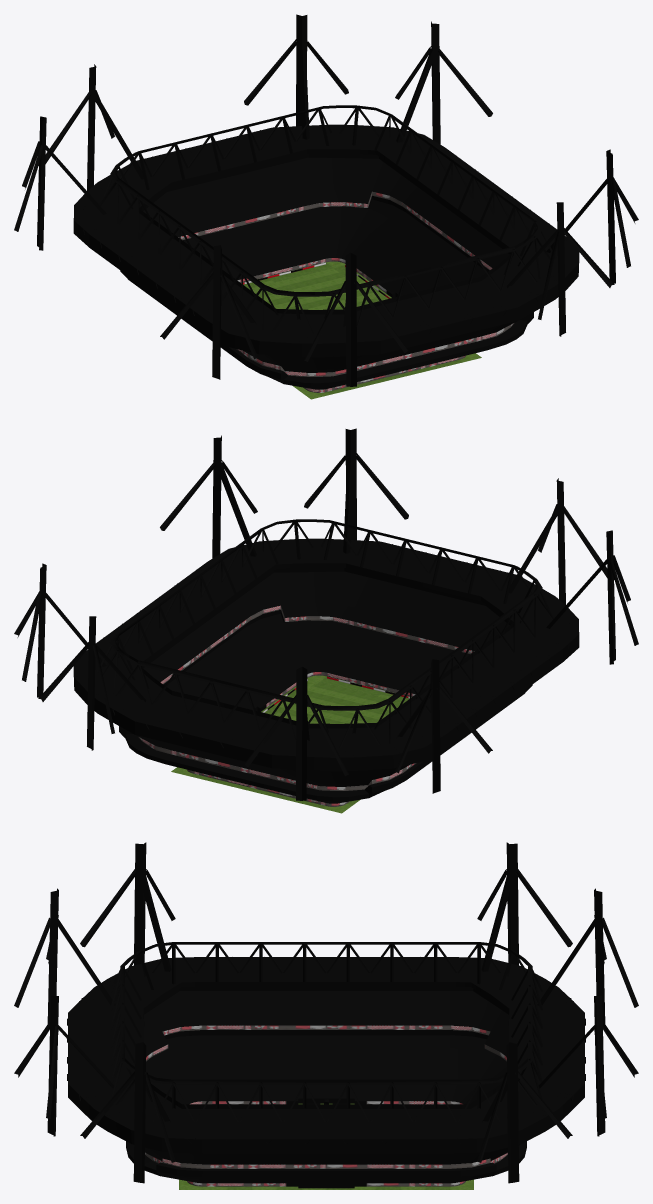
The model's file is st_050_stadium.fbx.
3 renders of one model, top to bottom at view 1: azimuth 30°, elevation 25°; view 2: azimuth 150°, elevation 25°; view 3: azimuth 270°, elevation 25°, orthographic. The views are drawn at different scales.
Parts seen in each view (by area): view 1: st_050_Stadium_all1_stand; view 2: st_050_Stadium_all1_stand; view 3: st_050_Stadium_all1_stand.
Boxes of the visible parts, x1,y1,x2,y2 form: st_050_Stadium_all1_stand: (14, 14, 638, 399); st_050_Stadium_all1_stand: (14, 428, 638, 813); st_050_Stadium_all1_stand: (14, 842, 638, 1189).
Bounding box in the file's own units: 247 × 94.86 × 265.
